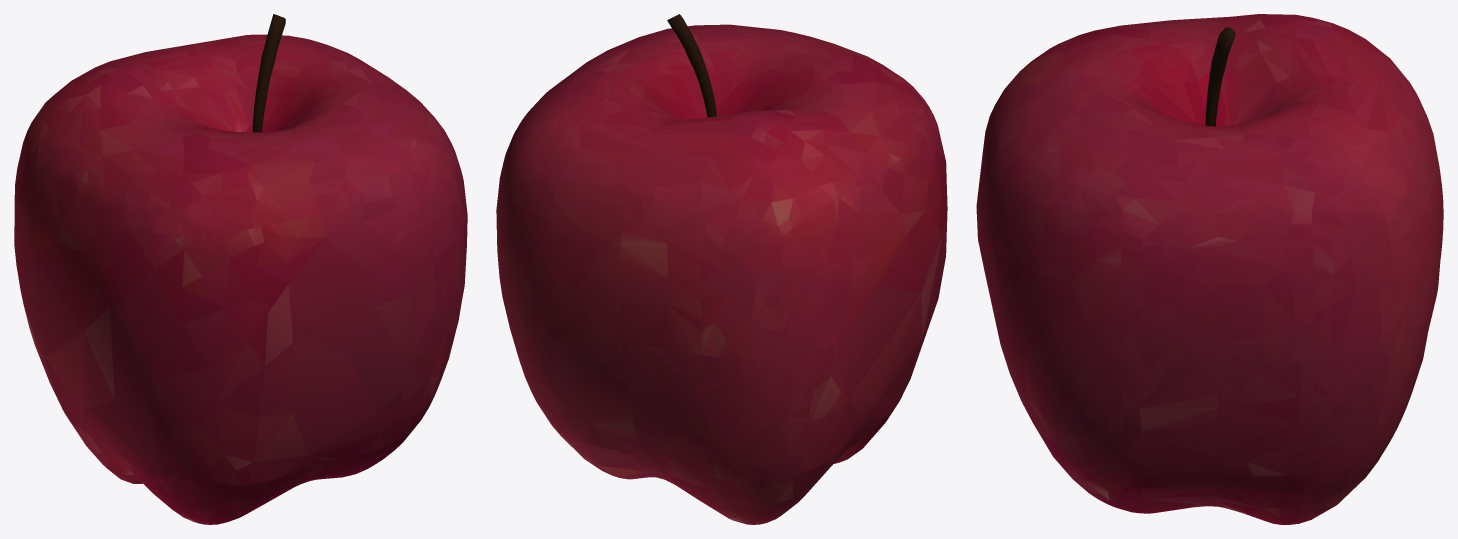
The model's file is apple_optimized.FBX.
3 views of the same model, side by side, from view 1: azimuth 30°, elevation 25°; view 2: azimuth 150°, elevation 25°; view 3: azimuth 270°, elevation 25° (orthographic). The views are drawn at different scales.
Parts seen in each view (by area): view 1: Apple; view 2: Apple; view 3: Apple.
Boxes of the visible parts, bbox=[...] form: Apple: bbox=[14, 14, 467, 524]; Apple: bbox=[496, 14, 947, 524]; Apple: bbox=[976, 14, 1443, 524].
Size of the model in its own units: 241 by 290 by 245.
